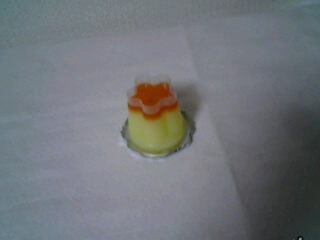001_classes: (110, 70, 201, 160)
